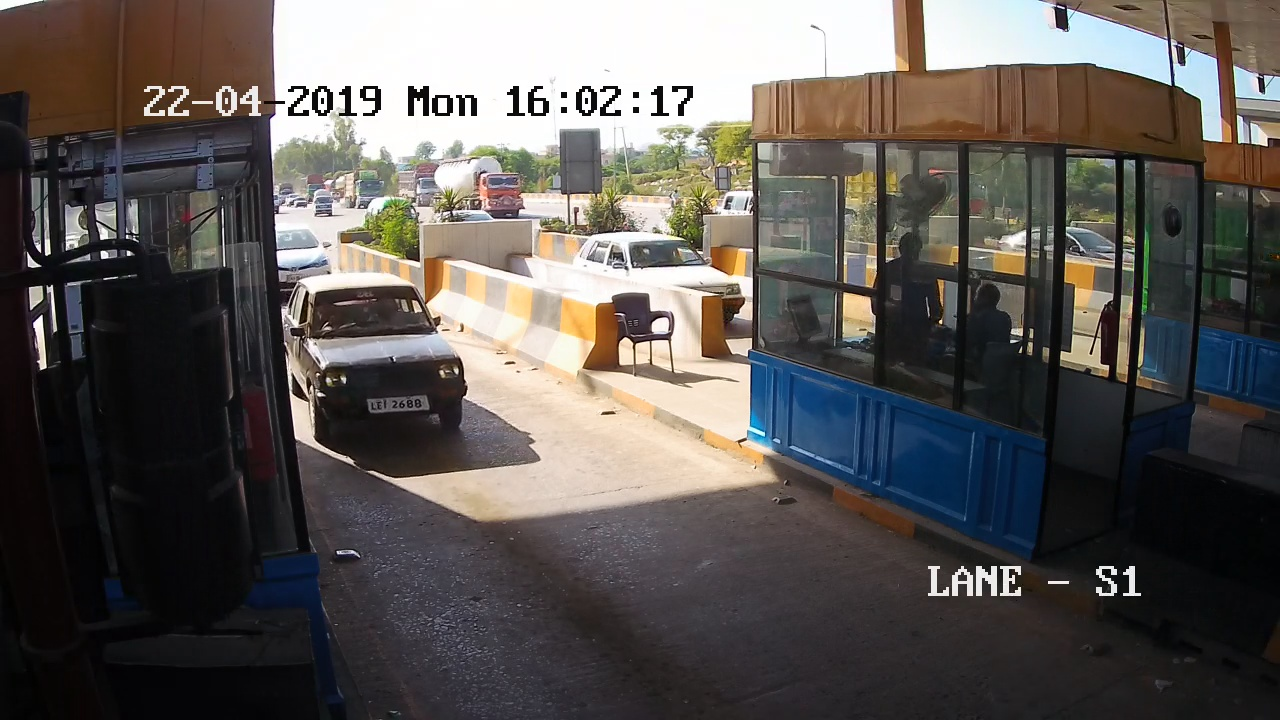car: (282, 287, 486, 461)
